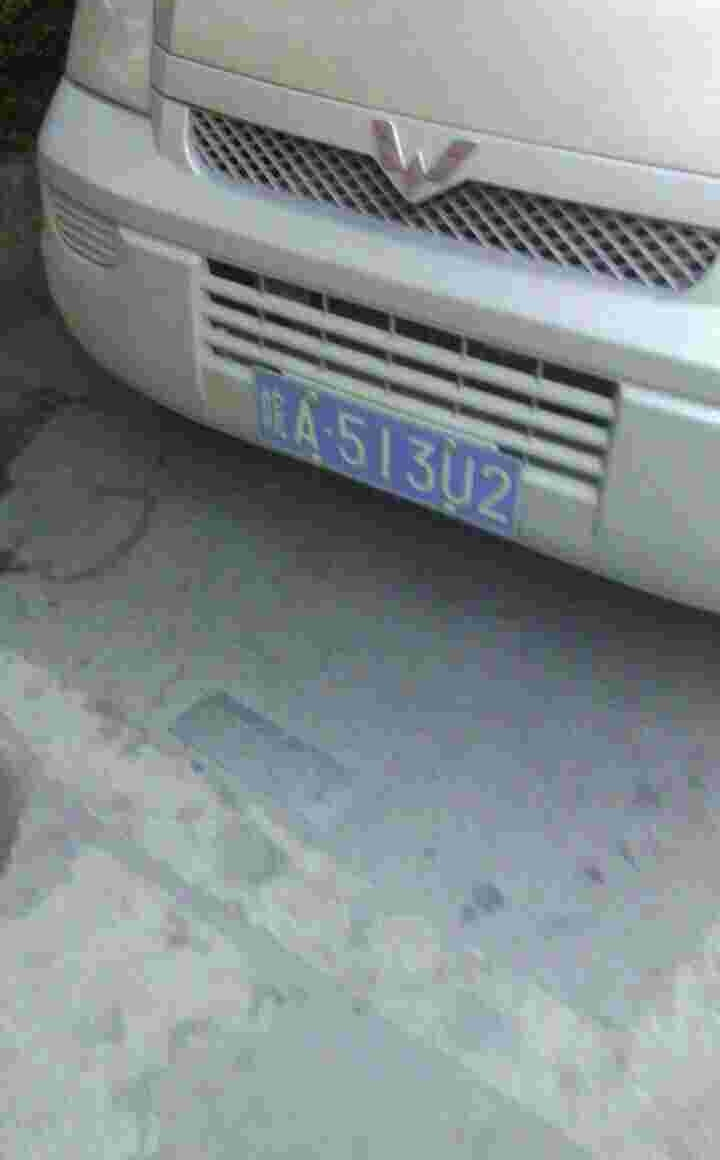car: (251, 364, 520, 520)
